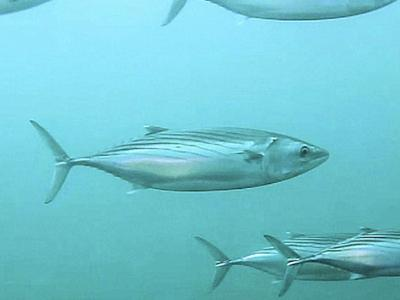Scombridae -Tunas-: (23, 116, 337, 206)
